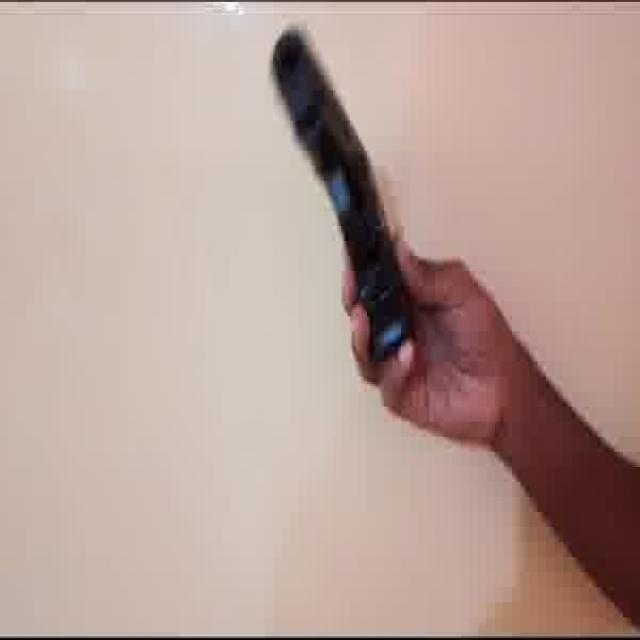weapon: (270, 26, 428, 371)
